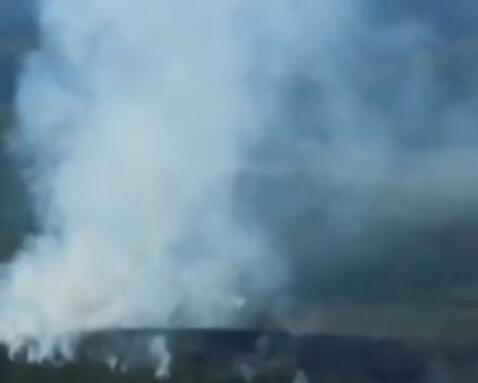yanwu: (1, 1, 466, 377)
